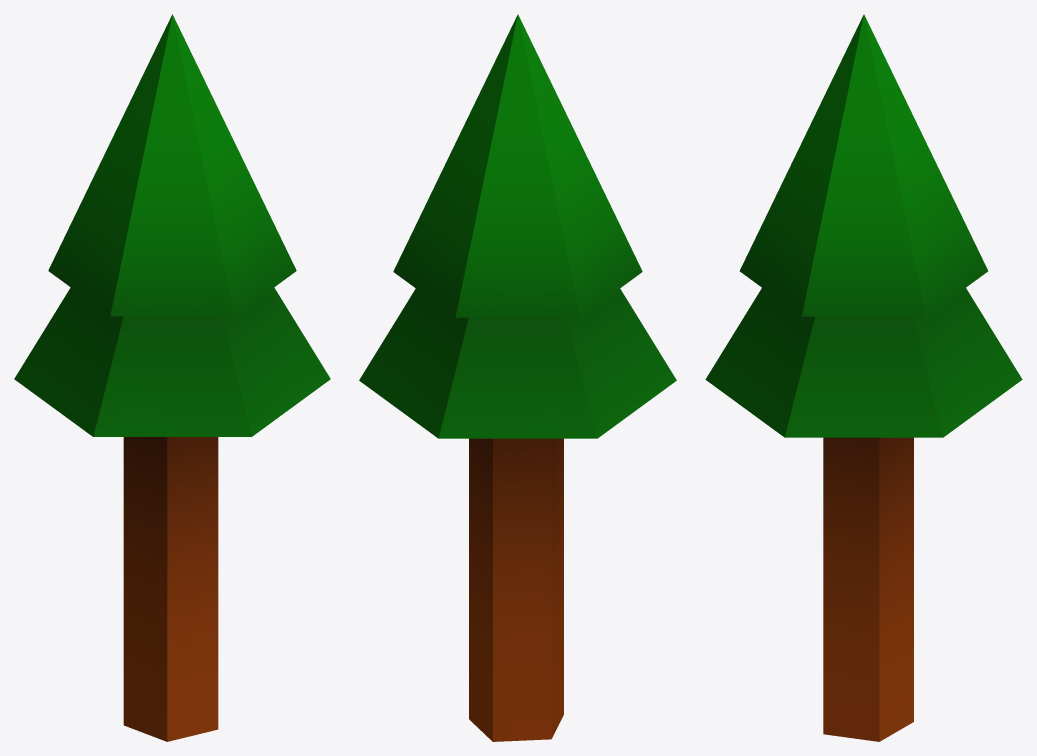
The model's file is ArvoreMedia.fbx.
3 renders of one model, left to right at view 1: azimuth 30°, elevation 25°; view 2: azimuth 150°, elevation 25°; view 3: azimuth 270°, elevation 25°, orthographic.
Visible parts, largest first — view 1: Cylinder.003; view 2: Cylinder.003; view 3: Cylinder.003.
Boxes of the visible parts, bbox=[...] form: Cylinder.003: bbox=[14, 14, 330, 741]; Cylinder.003: bbox=[359, 14, 676, 741]; Cylinder.003: bbox=[705, 14, 1022, 741].
Size of the model in its own units: 197 by 561 by 228.
